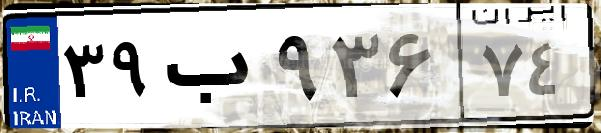3: (330, 28, 385, 110), (57, 26, 110, 100)
4: (525, 38, 570, 115)
6: (385, 28, 445, 110)
7: (475, 38, 525, 113)
9: (270, 28, 330, 110), (110, 28, 158, 98)
ب: (158, 20, 270, 120)
